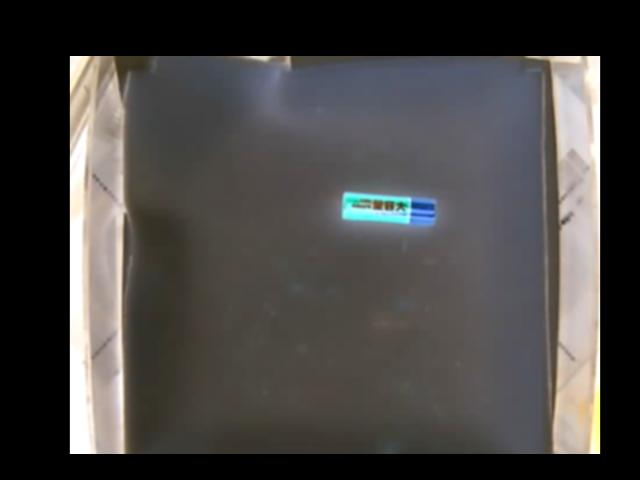Battery: (339, 193, 439, 223)
